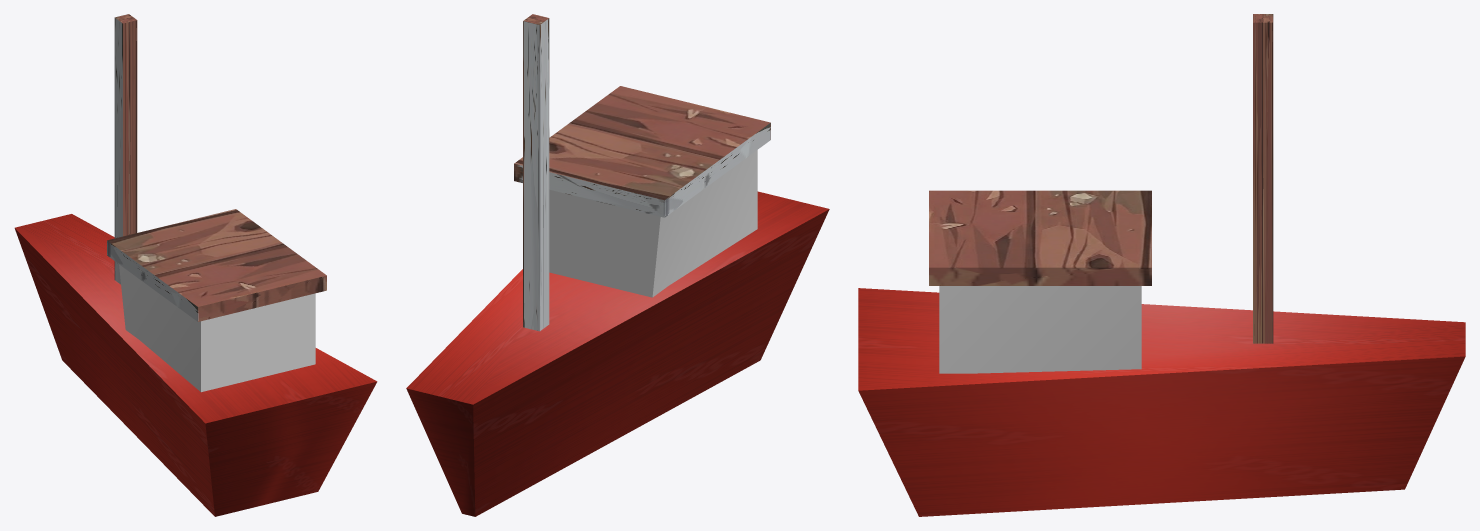
Rendered from barcopes.fbx.
3 renders of one model, left to right at view 1: azimuth 30°, elevation 25°; view 2: azimuth 150°, elevation 25°; view 3: azimuth 270°, elevation 25°, orthographic. The views are drawn at different scales.
Visible parts, largest first — view 1: Barco_Pesquero; view 2: Barco_Pesquero; view 3: Barco_Pesquero.
Boxes of the visible parts, box(x1,y1,x2,y2) form: Barco_Pesquero: box(14, 14, 377, 516); Barco_Pesquero: box(406, 14, 829, 516); Barco_Pesquero: box(858, 14, 1465, 516).
Bounding box in the file's own units: 240 × 510 × 600.
3 materials, 2 textured.
